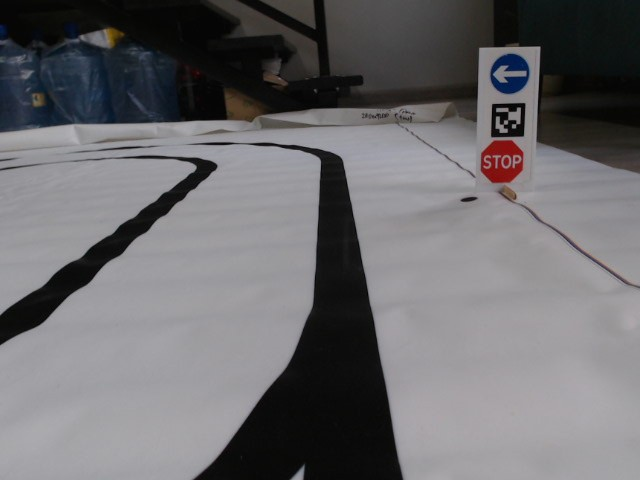Stop: (480, 138, 526, 184)
